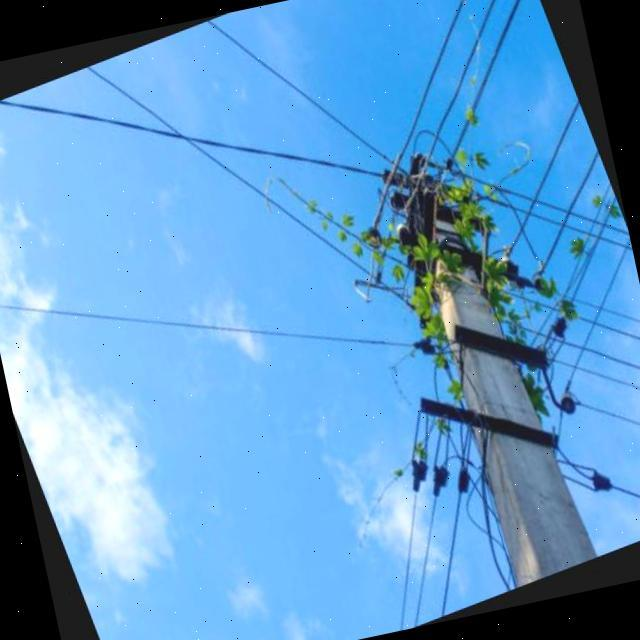critical vegetation: (304, 76, 594, 461)
